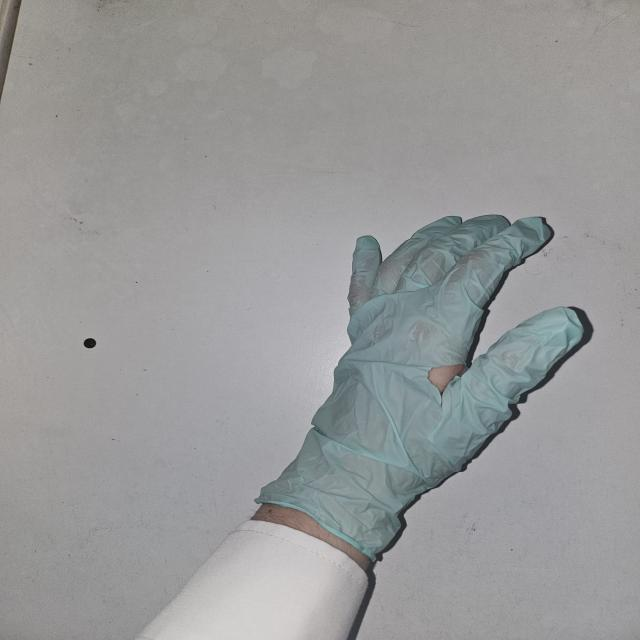gloves_damaged: (250, 207, 592, 564)
